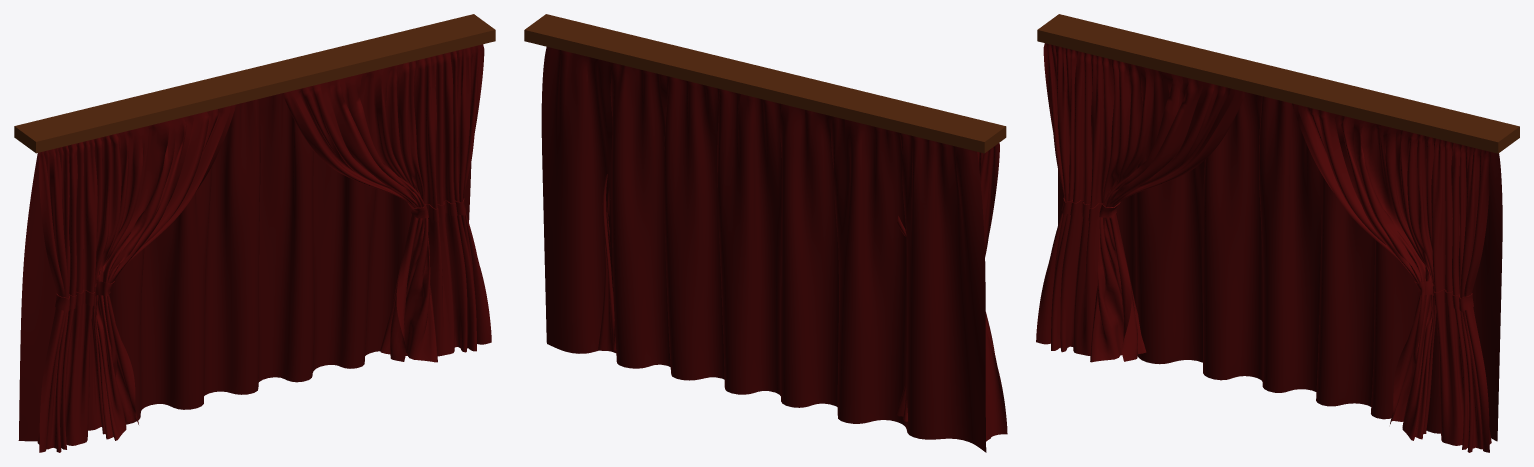
File: THEATER2.fbx
3 renders of one model, left to right at view 1: azimuth 30°, elevation 25°; view 2: azimuth 150°, elevation 25°; view 3: azimuth 330°, elevation 25°, orthographic.
Visible parts, largest first — view 1: Сurtain, Сurtain_tied, Сurtain_tied_1, Cube; view 2: Сurtain, Cube, Сurtain_tied_1, Сurtain_tied; view 3: Сurtain, Сurtain_tied_1, Сurtain_tied, Cube.
Boxes of the visible parts, x1,y1,x2,y2 form: Сurtain: [18, 93, 471, 441]; Сurtain_tied: [284, 44, 491, 362]; Сurtain_tied_1: [37, 104, 236, 452]; Cube: [14, 14, 495, 153]; Сurtain: [541, 47, 986, 452]; Cube: [524, 14, 1006, 153]; Сurtain_tied_1: [895, 143, 1007, 441]; Сurtain_tied: [598, 174, 616, 352]; Сurtain: [1058, 92, 1502, 441]; Сurtain_tied_1: [1036, 43, 1244, 362]; Сurtain_tied: [1292, 103, 1491, 452]; Cube: [1037, 14, 1519, 153].
Bounding box in the file's own units: 233 × 152 × 31.63.
